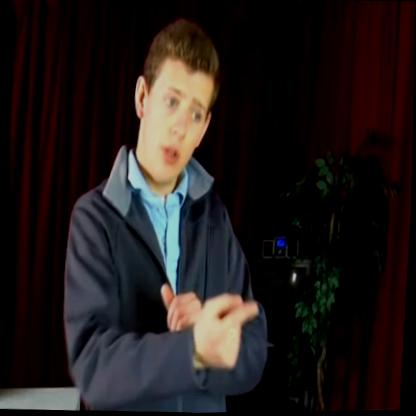HowAreYou: (150, 267, 272, 407)
